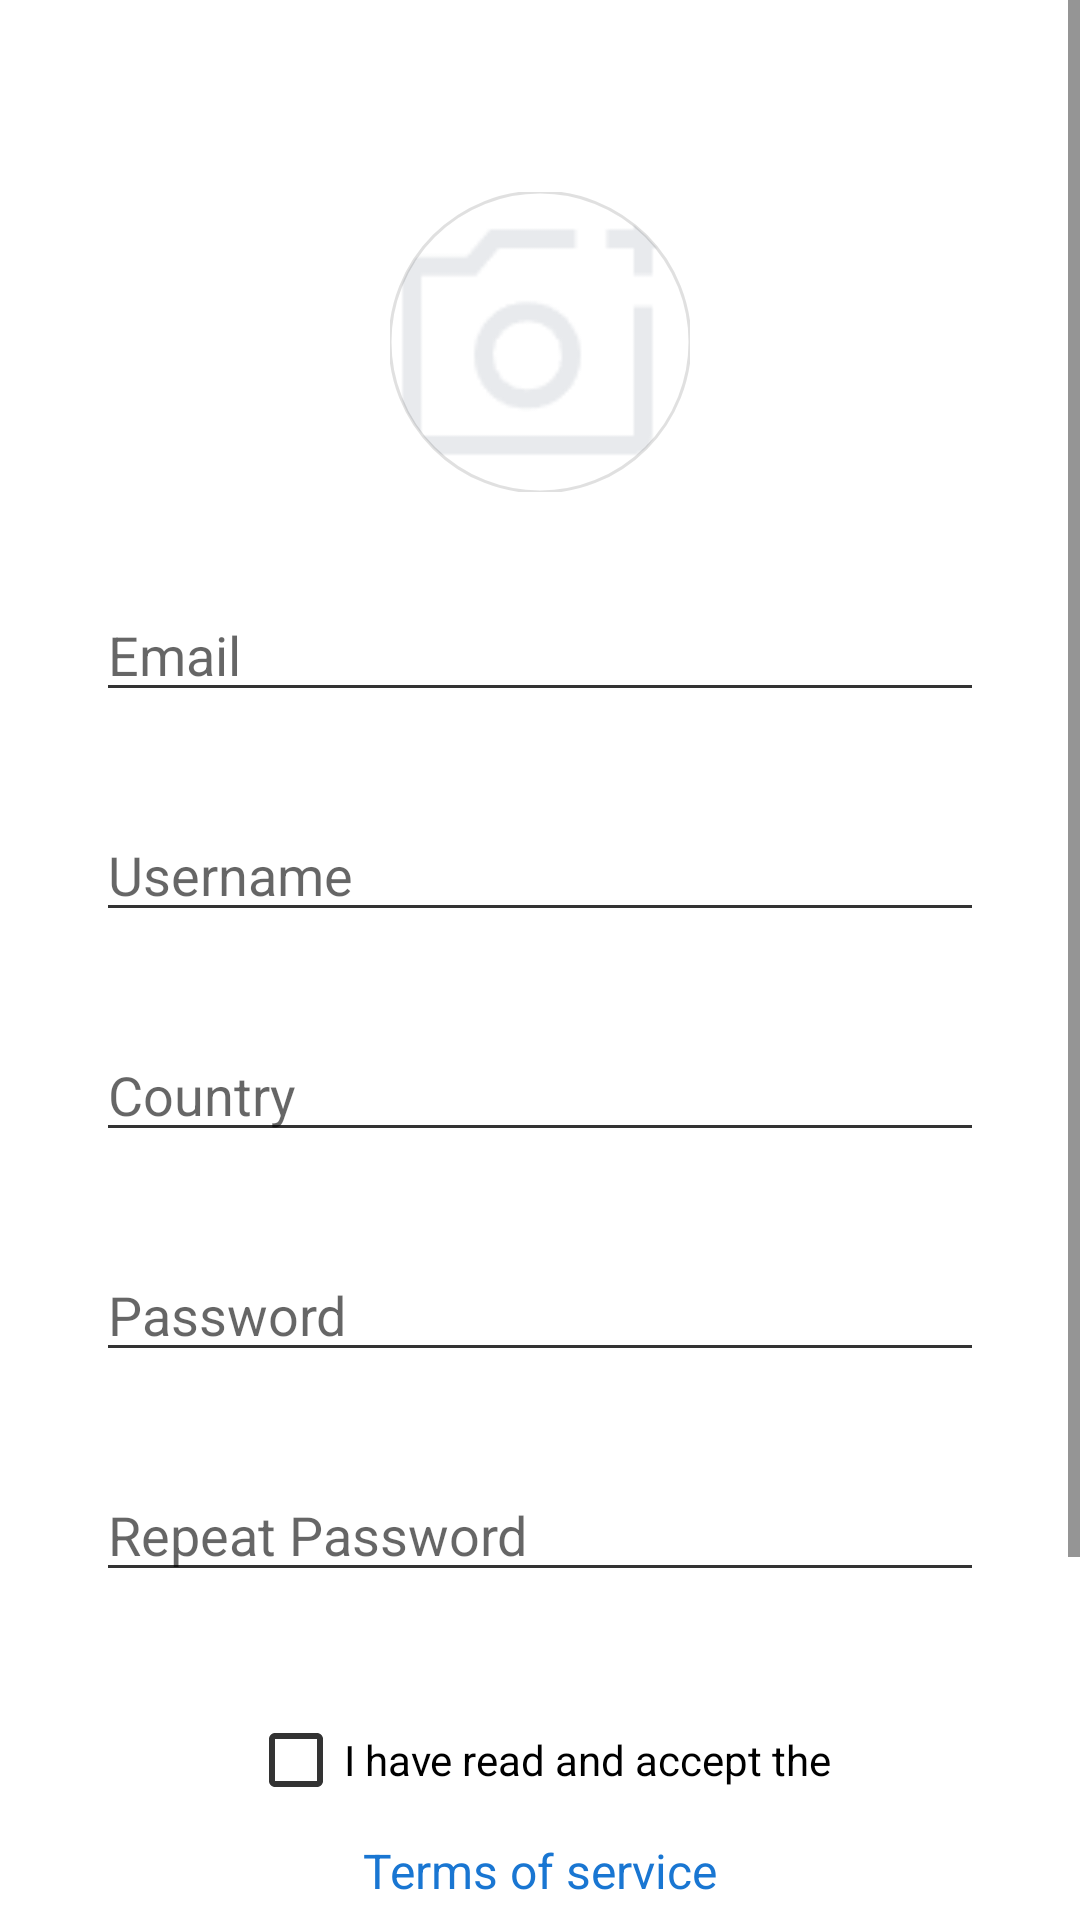

Where icons sit on this 1080px x 1920px app screen, as (x1, y1, x2, y2):
add photo: (390, 192, 690, 492)
